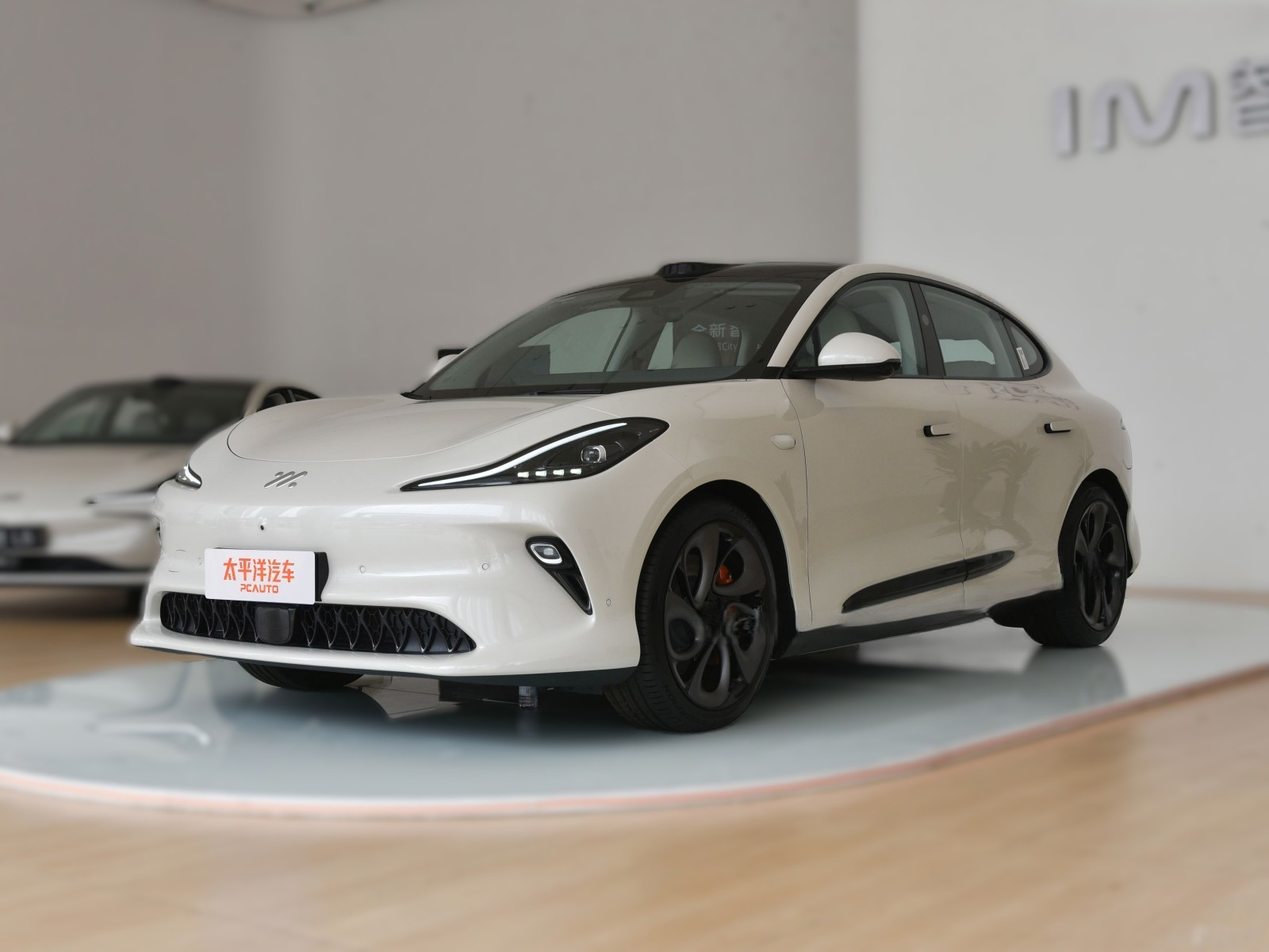IM: (264, 471, 307, 488)
